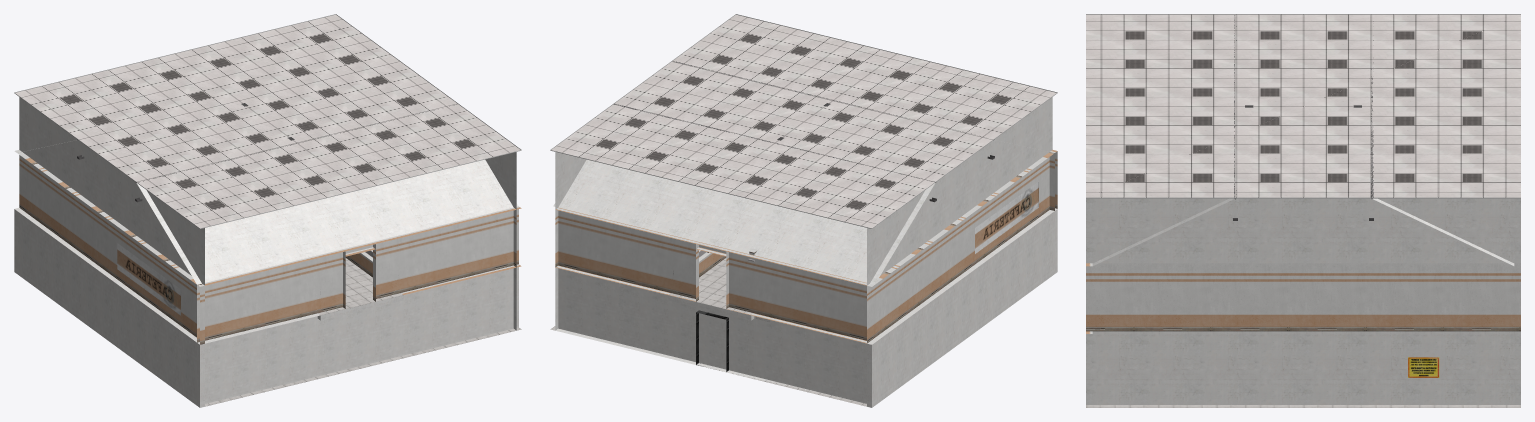
The model's file is RZ_room2_cafeteria.gltf.
The picture shows the model from 3 angles, left to right: view 1: azimuth 30°, elevation 25°; view 2: azimuth 150°, elevation 25°; view 3: azimuth 270°, elevation 25°; orthographic projection. The views are drawn at different scales.
Visible parts, largest first — view 1: RZ_room2_cafeteria; view 2: RZ_room2_cafeteria; view 3: RZ_room2_cafeteria.
Boxes of the visible parts, x1=… form: RZ_room2_cafeteria: x1=14, y1=14, x2=521, y2=407; RZ_room2_cafeteria: x1=550, y1=14, x2=1057, y2=407; RZ_room2_cafeteria: x1=1086, y1=14, x2=1520, y2=407.
Size of the model in its own units: 20.48 by 10.92 by 20.48.
